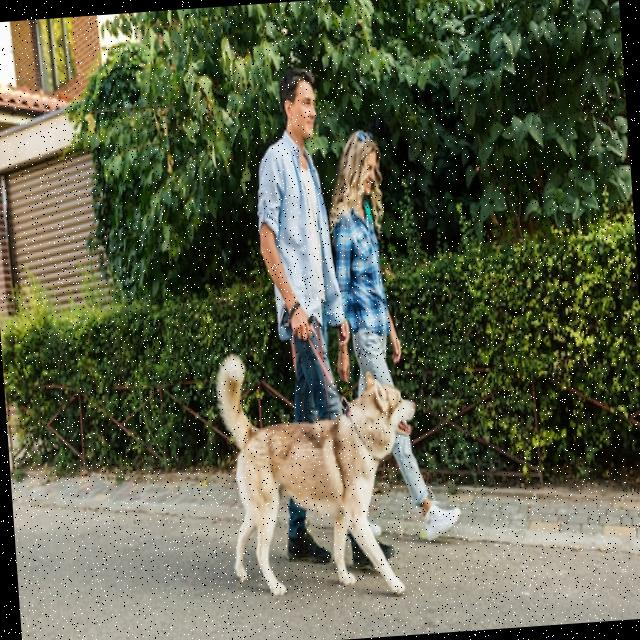Dog: (214, 342, 428, 608)
Person: (248, 62, 396, 574), (322, 124, 462, 546)
